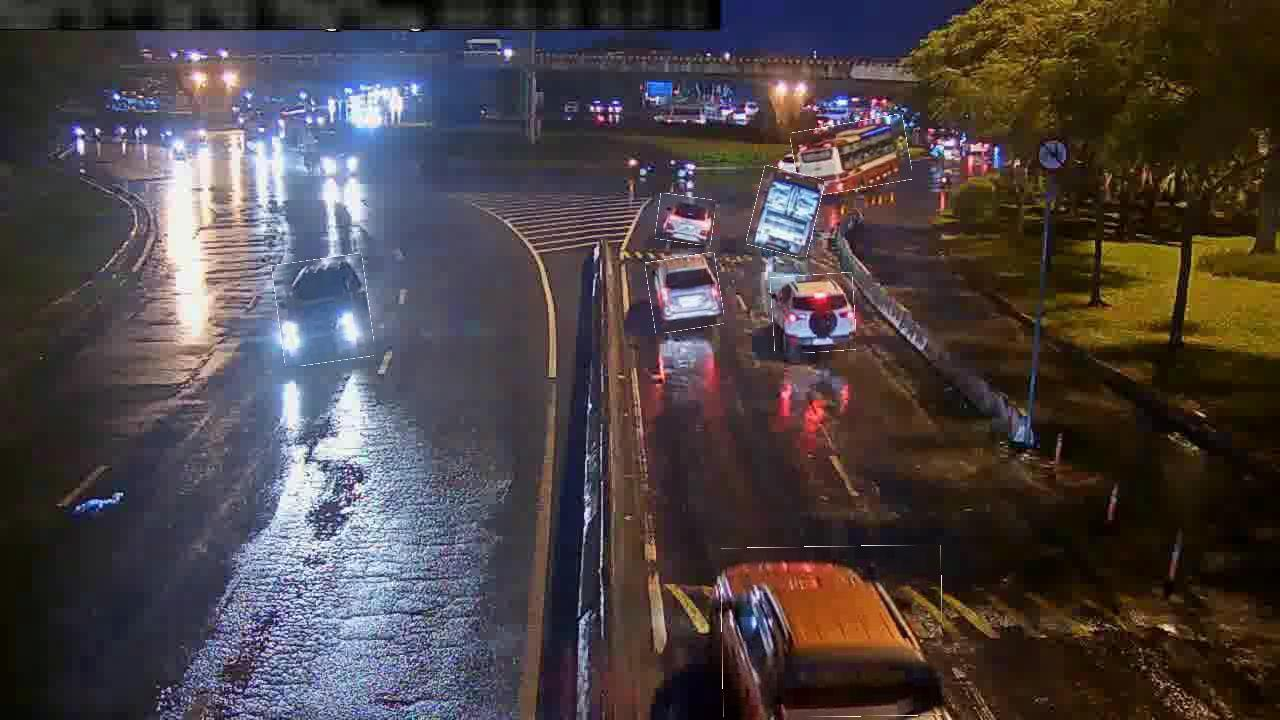14: (793, 118, 911, 194)
8: (751, 168, 821, 255)
container: (722, 546, 943, 718), (275, 256, 372, 365), (772, 274, 856, 353), (648, 255, 723, 332), (657, 195, 715, 245)
